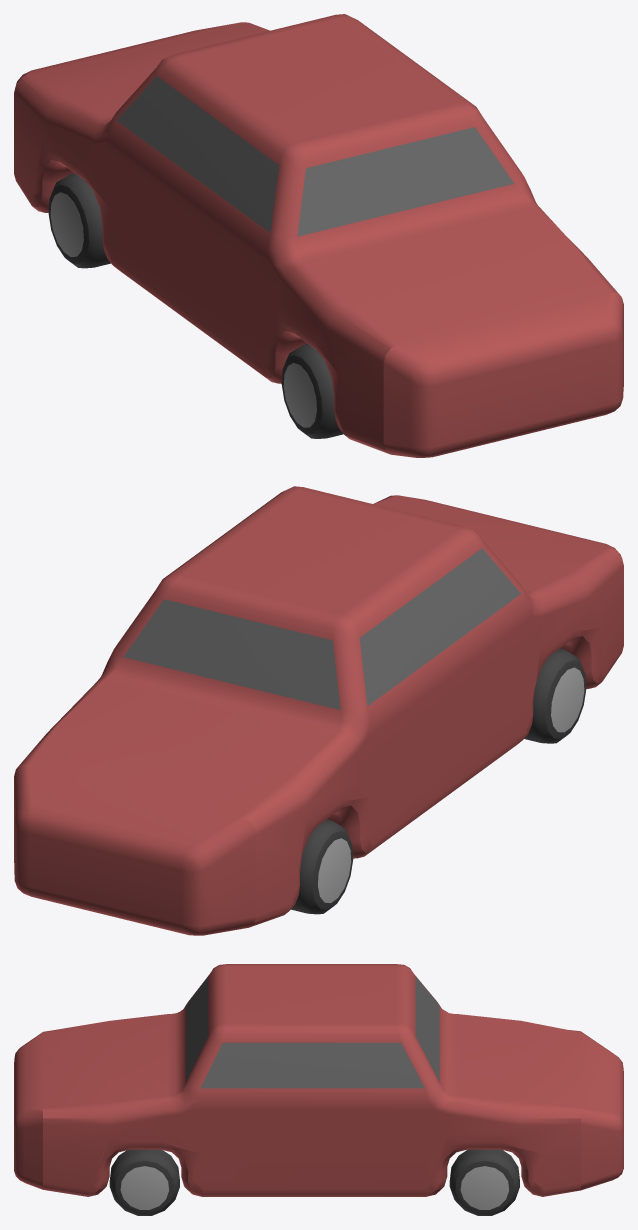
File: M_2_Car.fbx
3 renders of one model, top to bottom at view 1: azimuth 30°, elevation 25°; view 2: azimuth 150°, elevation 25°; view 3: azimuth 270°, elevation 25°, orthographic. The views are drawn at different scales.
Visible parts, largest first — view 1: pCube2; view 2: pCube2; view 3: pCube2.
Part boxes in pixels (box(x1,y1,x2,y2)): pCube2: box(14, 14, 623, 457); pCube2: box(14, 486, 623, 935); pCube2: box(14, 964, 623, 1215).
Size of the model in its own units: 128 by 110 by 346.
